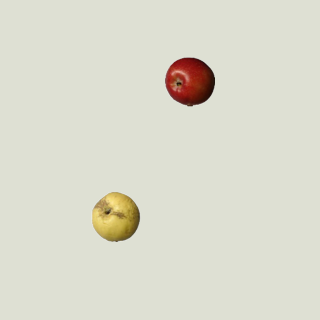Apple Braeburn: (164, 56, 214, 106)
Apple Golden 1: (90, 191, 140, 241)
